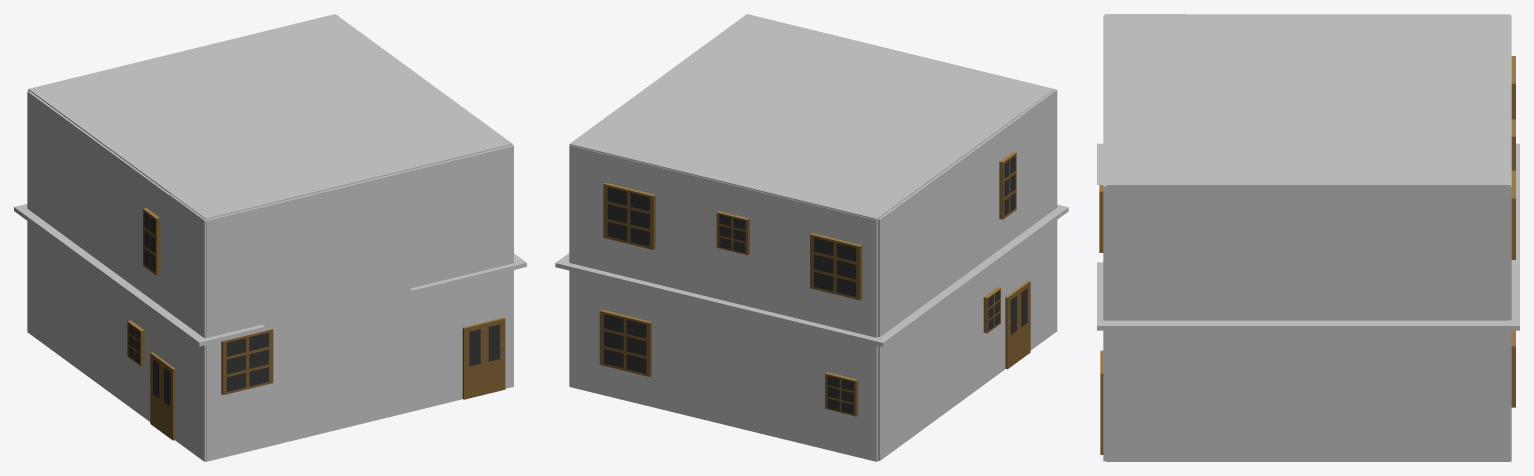
Rendered from Lockes_crime_house.fbx.
The picture shows the model from 3 angles, left to right: view 1: azimuth 30°, elevation 25°; view 2: azimuth 150°, elevation 25°; view 3: azimuth 270°, elevation 25°; orthographic projection. The views are drawn at different scales.
Visible parts, largest first — view 1: pCube2, pCube19, Outside_walls, pCube9, Door8, Window5, Door3, Window7, Window6; view 2: pCube3, pCube19, Outside_walls, pCube9, Window3, Window, Window1, Door3, Window2, Window4, Window7, Window6; view 3: pCube4, pCube19, pCube9, pCube3, pCube2, Window.
Part boxes in pixels (box(x1,y1,x2,y2)): pCube2: box(206, 145, 513, 461); pCube19: box(28, 14, 512, 219); Outside_walls: box(27, 91, 206, 461); pCube9: box(14, 204, 526, 346); Door8: box(462, 317, 505, 399); Window5: box(221, 329, 273, 395); Door3: box(150, 352, 175, 440); Window7: box(143, 208, 160, 275); Window6: box(127, 320, 144, 366); pCube3: box(569, 145, 877, 461); pCube19: box(569, 14, 1054, 220); Outside_walls: box(878, 89, 1057, 460); pCube9: box(555, 204, 1068, 346); Window3: box(599, 309, 651, 376); Window: box(603, 182, 655, 249); Window1: box(810, 233, 862, 300); Door3: box(1005, 280, 1030, 369); Window2: box(716, 211, 749, 255); Window4: box(825, 372, 858, 416); Window7: box(999, 152, 1016, 219); Window6: box(983, 287, 1000, 333); pCube4: box(1104, 185, 1508, 461); pCube19: box(1106, 14, 1510, 187); pCube9: box(1097, 143, 1519, 330); pCube3: box(1508, 15, 1511, 461); pCube2: box(1103, 15, 1106, 461); Window: box(1511, 170, 1515, 259).
Size of what is drawn, in the model's own units: 25.99 by 18.41 by 25.47.
